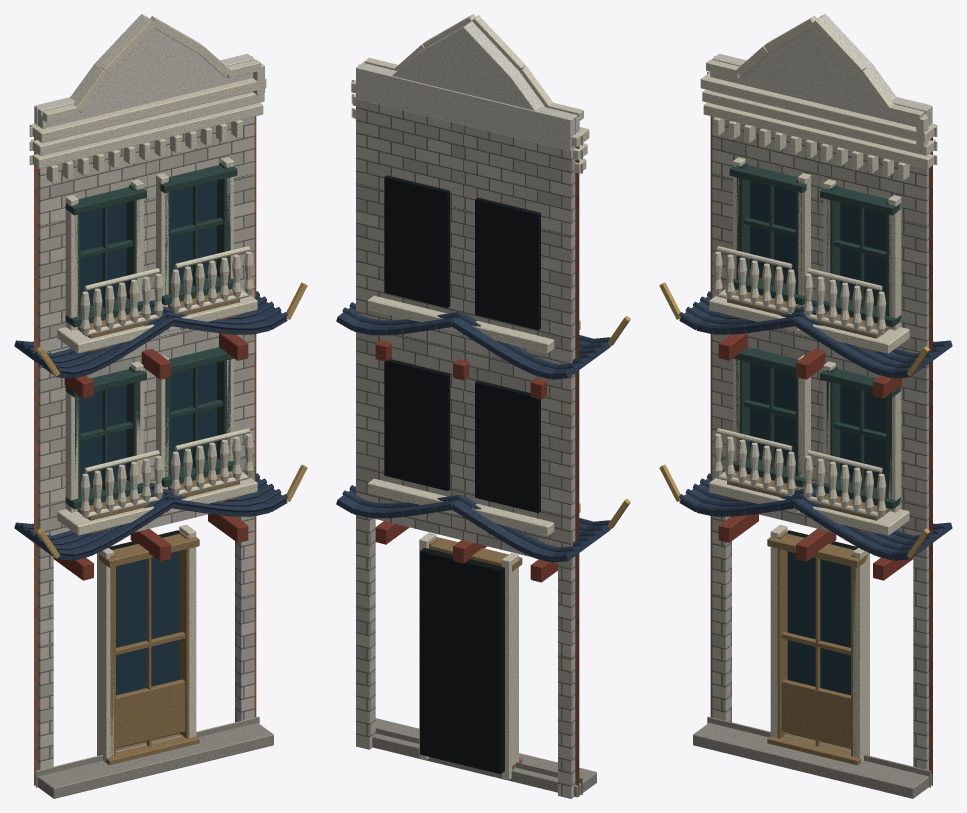
The model's file is CHINA16_lod1.glb.
The picture shows the model from 3 angles, left to right: view 1: azimuth 30°, elevation 25°; view 2: azimuth 150°, elevation 25°; view 3: azimuth 330°, elevation 25°; orthographic projection.
Visible parts, largest first — view 1: CHINA16_FRONT_LOD1; view 2: CHINA16_FRONT_LOD1; view 3: CHINA16_FRONT_LOD1.
Part boxes in pixels (x1,y1,x2,y2): CHINA16_FRONT_LOD1: (14,14,307,798); CHINA16_FRONT_LOD1: (336,14,630,798); CHINA16_FRONT_LOD1: (659,14,952,798).
Bounding box in the file's own units: 4.01 × 10.64 × 1.14.
13 materials, 10 textured.
